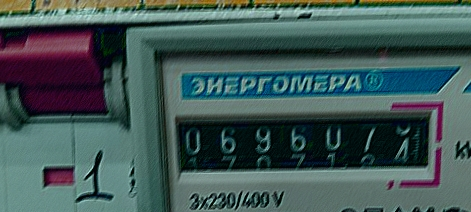0: (181, 125, 203, 155), (323, 121, 343, 151)
4: (390, 135, 410, 164)
6: (287, 122, 308, 153), (217, 124, 237, 153)
7: (358, 120, 377, 151)
9: (252, 123, 273, 153)
screen: (163, 94, 447, 191)
